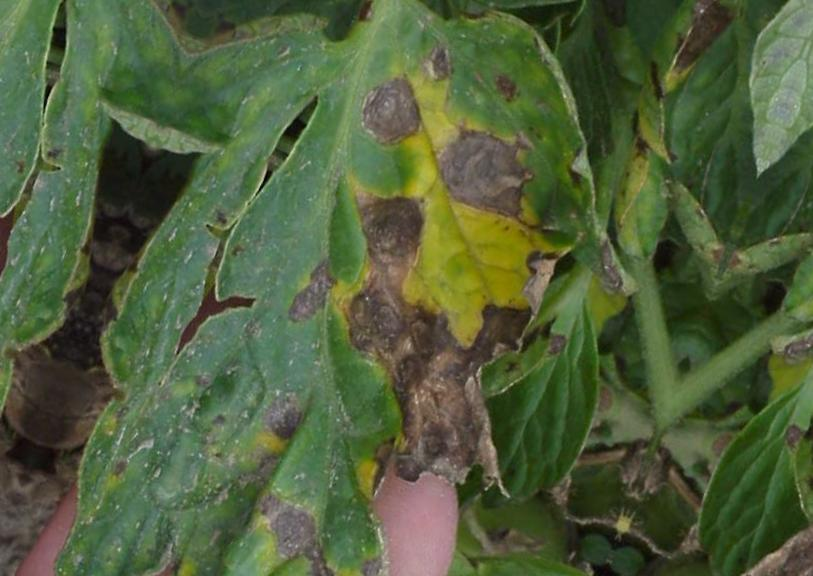Tomato Early blight leaf: (4, 0, 672, 576)
